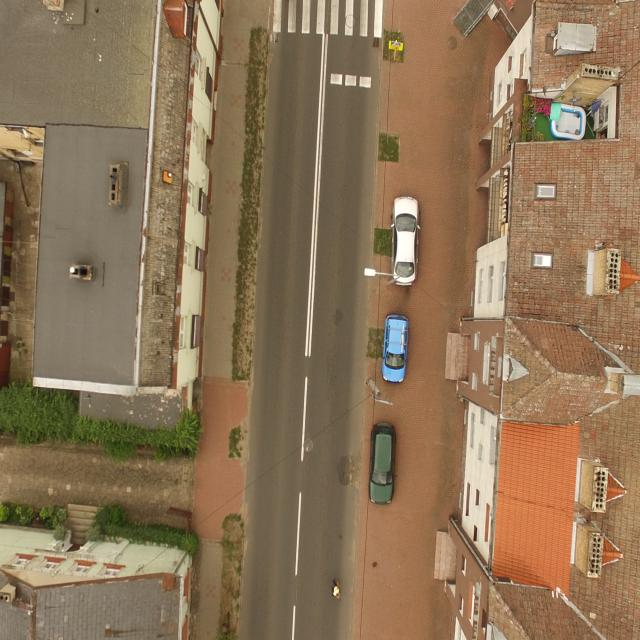cars: (391, 199, 422, 290), (368, 421, 398, 507), (384, 321, 412, 382), (375, 425, 376, 428)
houses: (431, 0, 640, 640), (0, 0, 227, 395)
street-lamp: (364, 268, 402, 286)
